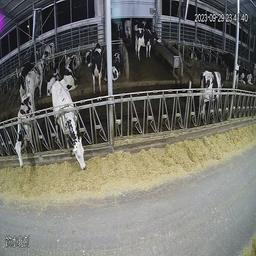cow: (51, 79, 84, 173), (7, 93, 36, 161), (198, 66, 226, 122), (24, 56, 45, 99), (134, 27, 158, 62), (17, 61, 36, 105), (90, 39, 103, 96), (221, 48, 240, 85), (103, 50, 123, 84), (46, 64, 61, 98), (65, 56, 79, 92), (40, 39, 56, 70), (116, 17, 133, 42), (63, 51, 83, 68), (239, 65, 254, 87), (83, 43, 94, 68)
